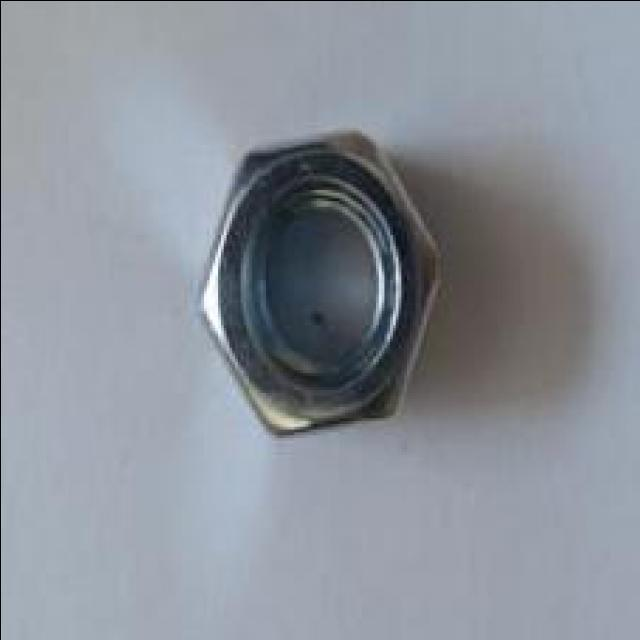ecrouOK: (196, 125, 448, 439)
